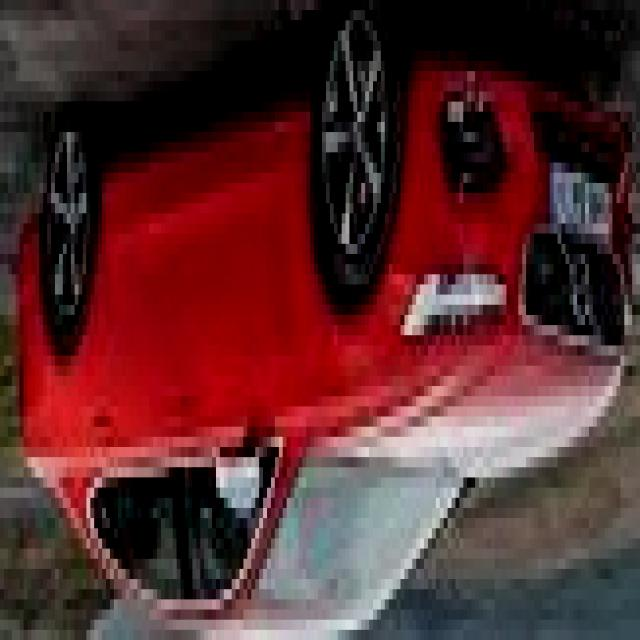red: (20, 45, 640, 631)
